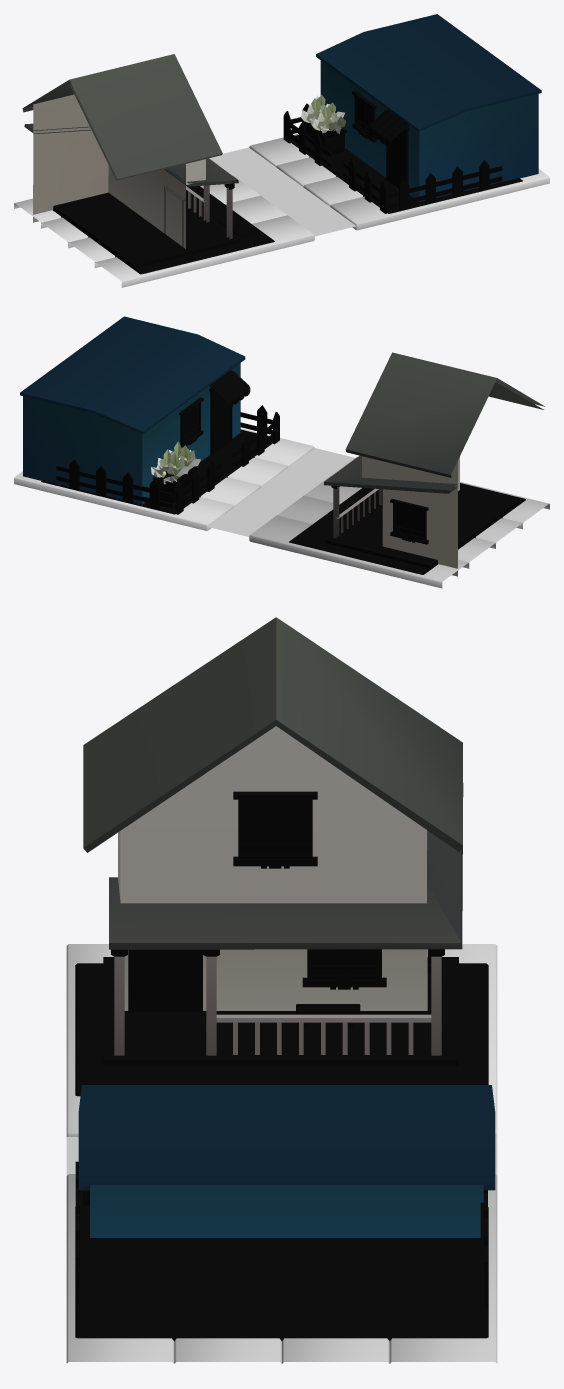
File: SM_ER_module11.fbx
The picture shows the model from 3 angles, top to bottom: view 1: azimuth 30°, elevation 25°; view 2: azimuth 150°, elevation 25°; view 3: azimuth 270°, elevation 25°; orthographic projection. The views are drawn at different scales.
Parts seen in each view (by area): view 1: SM_ER_module11_walls, SM_ER_floor1; view 2: SM_ER_module11_walls, SM_ER_floor1; view 3: SM_ER_module11_walls, SM_ER_floor1.
Part boxes in pixels (<box>): SM_ER_module11_walls: <box>22,14,541,274</box>; SM_ER_floor1: <box>14,134,549,287</box>; SM_ER_module11_walls: <box>20,316,544,576</box>; SM_ER_floor1: <box>14,428,549,588</box>; SM_ER_module11_walls: <box>75,617,495,1341</box>; SM_ER_floor1: <box>66,944,497,1363</box>.
Size of the model in its own units: 4128 by 1577 by 1798.
